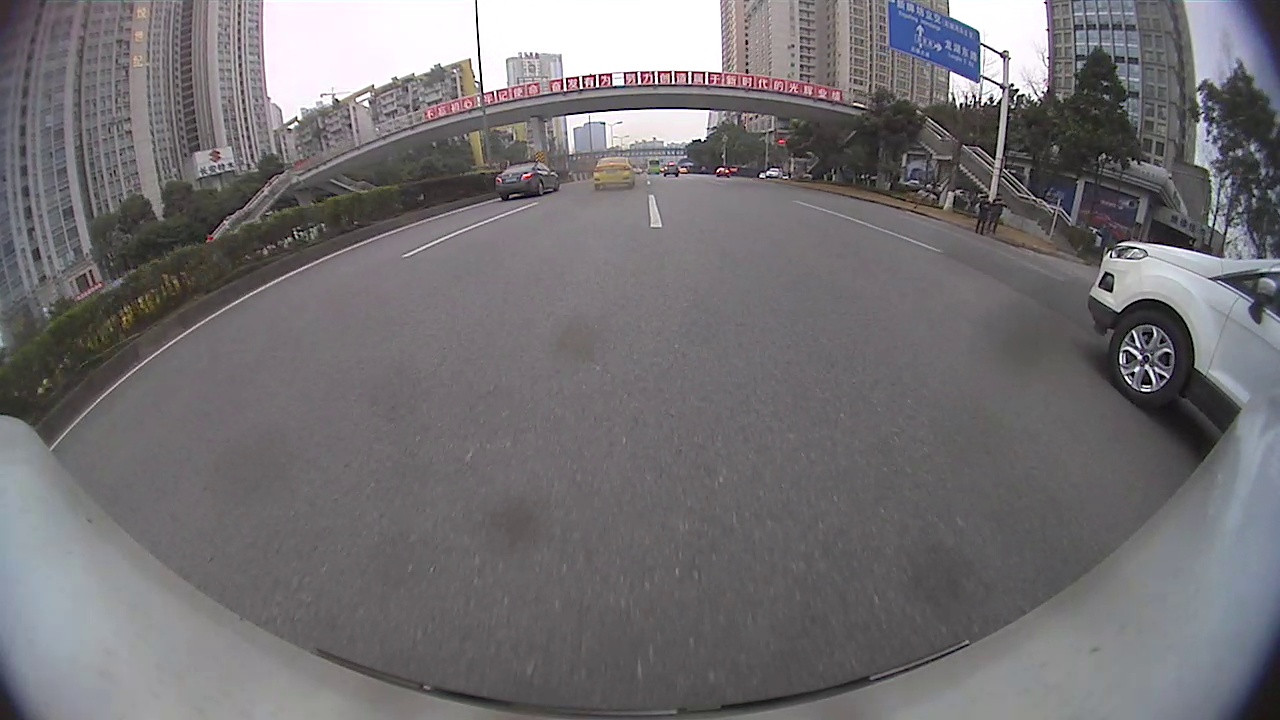car: (1089, 241, 1278, 431), (492, 164, 561, 199), (594, 156, 637, 190)
front: (1108, 307, 1193, 410)
person: (990, 192, 1004, 235), (977, 194, 991, 236)
